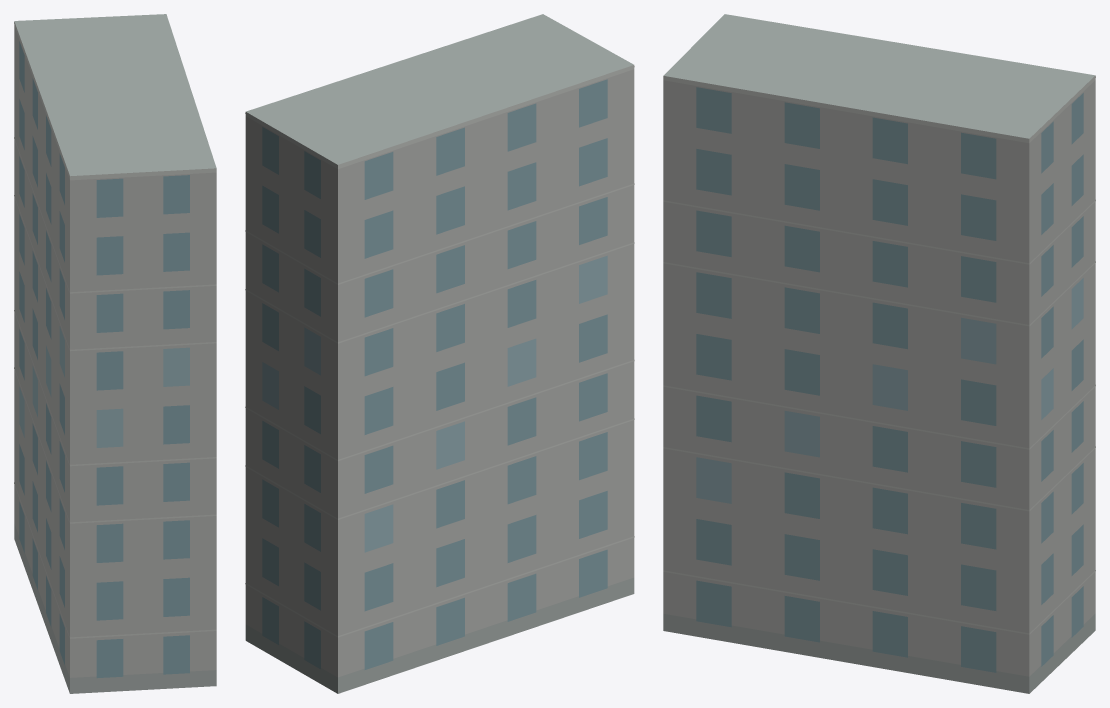
File: survey-upis-33005706.glb
The picture shows the model from 3 angles, left to right: view 1: azimuth 30°, elevation 25°; view 2: azimuth 150°, elevation 25°; view 3: azimuth 270°, elevation 25°; orthographic projection. The views are drawn at different scales.
Visible parts, largest first — view 1: survey-upis-33005706.tmp; view 2: survey-upis-33005706.tmp; view 3: survey-upis-33005706.tmp.
Part boxes in pixels (box(x1,y1,x2,y2)): survey-upis-33005706.tmp: box(14, 14, 216, 693); survey-upis-33005706.tmp: box(245, 14, 634, 693); survey-upis-33005706.tmp: box(663, 14, 1095, 693).
Bounding box in the file's own units: 14.44 × 29.9 × 21.13.
